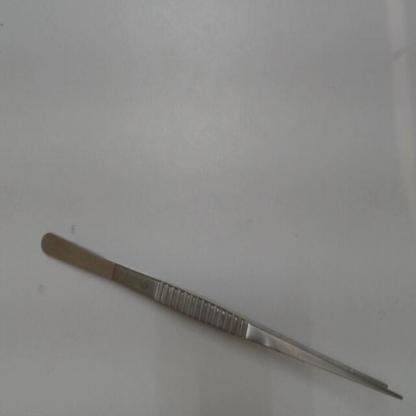DeBakey Dissector: (28, 212, 416, 414)
